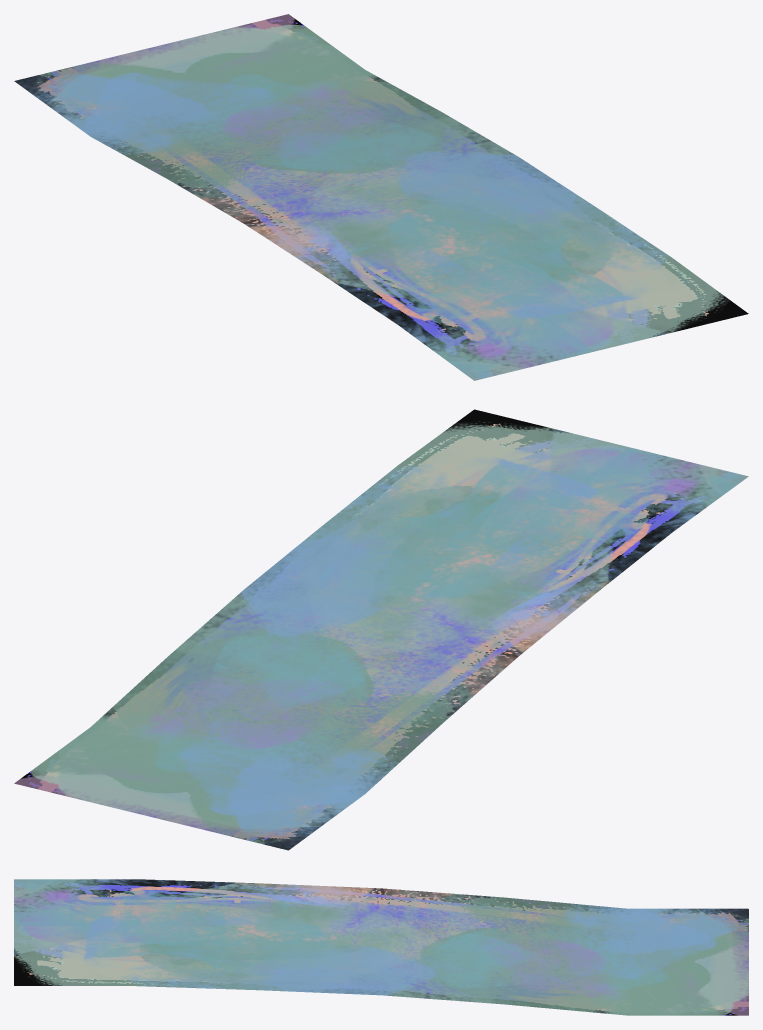
Rendered from S_BrushStroke_BlueLong.fbx.
3 renders of one model, top to bottom at view 1: azimuth 30°, elevation 25°; view 2: azimuth 150°, elevation 25°; view 3: azimuth 270°, elevation 25°, orthographic. The views are drawn at different scales.
Parts seen in each view (by area): view 1: S_BrushStroke_BlueLong; view 2: S_BrushStroke_BlueLong; view 3: S_BrushStroke_BlueLong.
Boxes of the visible parts, <box> form: S_BrushStroke_BlueLong: <box>14,14,748,380</box>; S_BrushStroke_BlueLong: <box>14,409,748,850</box>; S_BrushStroke_BlueLong: <box>14,879,748,1015</box>.
Bounding box in the file's own units: 0.8197 × 0.1059 × 2.38.
